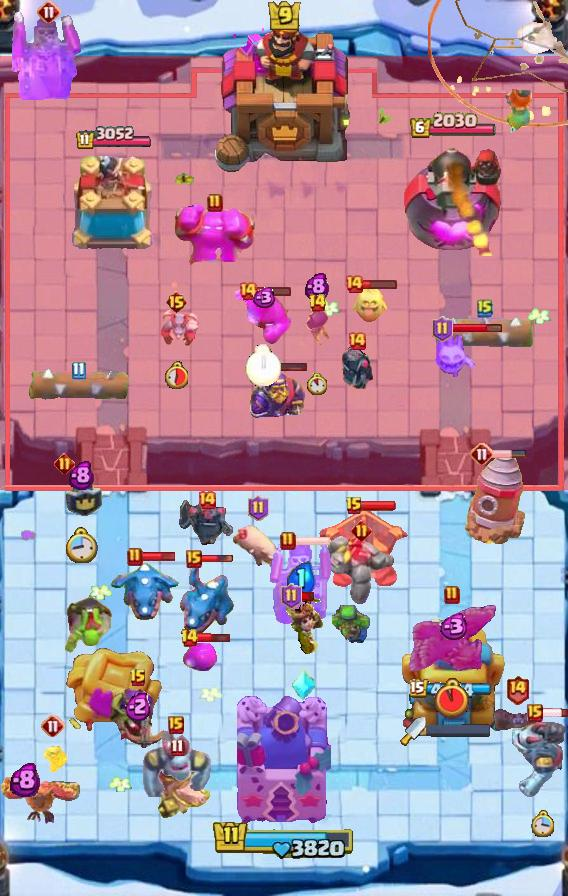bar: (450, 323, 503, 334), (196, 631, 231, 644), (294, 535, 331, 547), (361, 500, 397, 512), (256, 286, 292, 297), (362, 279, 398, 290), (141, 551, 176, 562), (273, 361, 308, 372), (491, 449, 527, 459), (200, 554, 234, 564), (541, 707, 568, 719), (299, 591, 316, 602)
bar-level: (505, 674, 530, 705), (41, 714, 65, 738), (470, 442, 494, 466), (37, 0, 61, 24), (165, 290, 188, 314), (281, 583, 302, 609), (248, 495, 269, 521), (432, 316, 453, 342), (351, 520, 372, 541), (54, 453, 75, 474), (197, 490, 217, 510), (347, 331, 367, 351), (238, 281, 258, 301), (344, 274, 364, 294), (180, 628, 199, 648), (308, 293, 327, 313), (129, 668, 147, 688), (345, 496, 363, 516), (444, 585, 460, 605), (127, 547, 143, 567), (280, 531, 296, 551), (477, 298, 493, 318), (207, 193, 223, 213), (168, 716, 184, 734), (527, 704, 543, 722), (186, 550, 202, 568), (170, 738, 185, 757), (71, 361, 86, 380)
bat: (488, 708, 546, 730)
cannoneer-tower: (403, 138, 504, 256)
clock: (245, 344, 281, 386), (435, 678, 469, 719), (65, 527, 98, 563), (164, 361, 188, 389), (531, 810, 555, 837), (307, 373, 327, 395)
dagger-duchess-tower: (401, 615, 506, 731)
dagger-duchess-tower-bar: (426, 724, 490, 737)
electro-dragon: (109, 560, 181, 624), (178, 562, 236, 636)
elixir: (10, 762, 40, 797), (286, 561, 316, 596), (436, 613, 469, 640), (125, 691, 152, 721), (69, 460, 94, 490), (305, 272, 329, 300), (250, 287, 276, 308)
elixir-golem-mid: (235, 287, 291, 345)
elixir-golem-small: (182, 643, 218, 673)
goblin-ball: (64, 594, 114, 654)
golemite: (325, 534, 397, 606)
guard: (59, 464, 103, 520)
heal-spirit: (348, 286, 390, 324)
hog: (230, 524, 286, 574)
ice-spirit-evolution: (429, 331, 477, 379)
ice-spirit-evolution-symbol: (291, 669, 317, 701)
king-tower: (211, 7, 357, 181), (237, 696, 331, 826)
king-tower-bar: (212, 819, 356, 861)
knight-evolution: (250, 370, 306, 419)
little-prince: (281, 595, 325, 656)
mega-minion: (139, 729, 213, 797), (512, 718, 568, 798)
mini-pekka: (176, 499, 238, 547), (339, 339, 375, 393)
minion: (153, 308, 199, 348)
queen-tower: (68, 156, 160, 256)
skeleton: (39, 740, 67, 772)
skeleton-evolution: (302, 307, 332, 347)
spear-goblin: (332, 605, 374, 645)
the-log: (434, 317, 536, 353), (26, 368, 130, 402)
tower-bar: (409, 112, 497, 140), (75, 126, 153, 151), (410, 679, 496, 701)
valkyrie: (499, 84, 537, 136)
